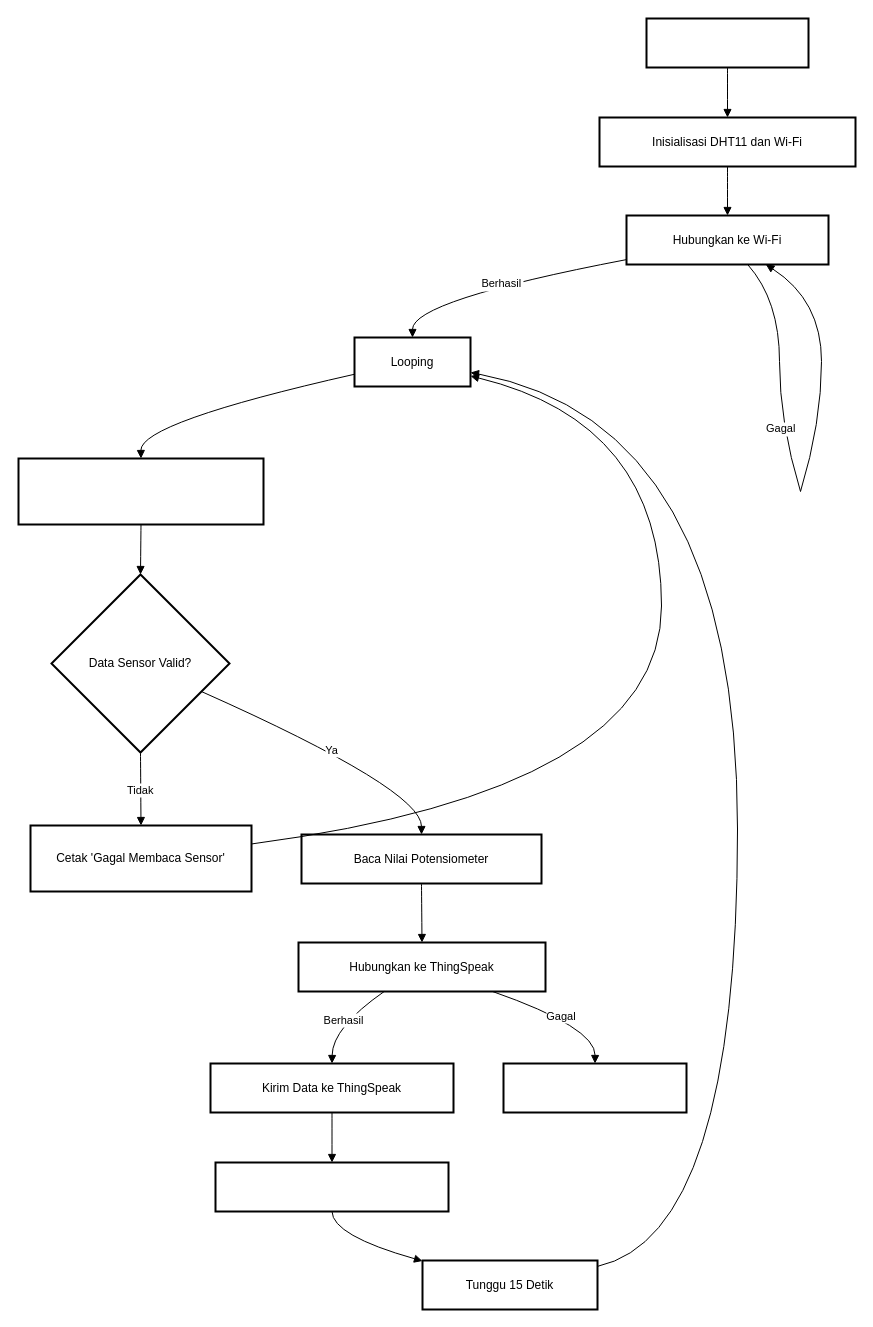
Image size: 873x1327. Some labels were removed from this diagram. Here are the shapes that lost their labels. From the top down, the centre of each, then its label:
At [727,42]: "Mulai Program".
At [140,491]: "Baca Data Sensor DHT11 - Suhu dan Kelembapan".
At [594,1087]: "Hentikan Koneksi".
At [331,1186]: "Cetak Data yang Dikirim".
